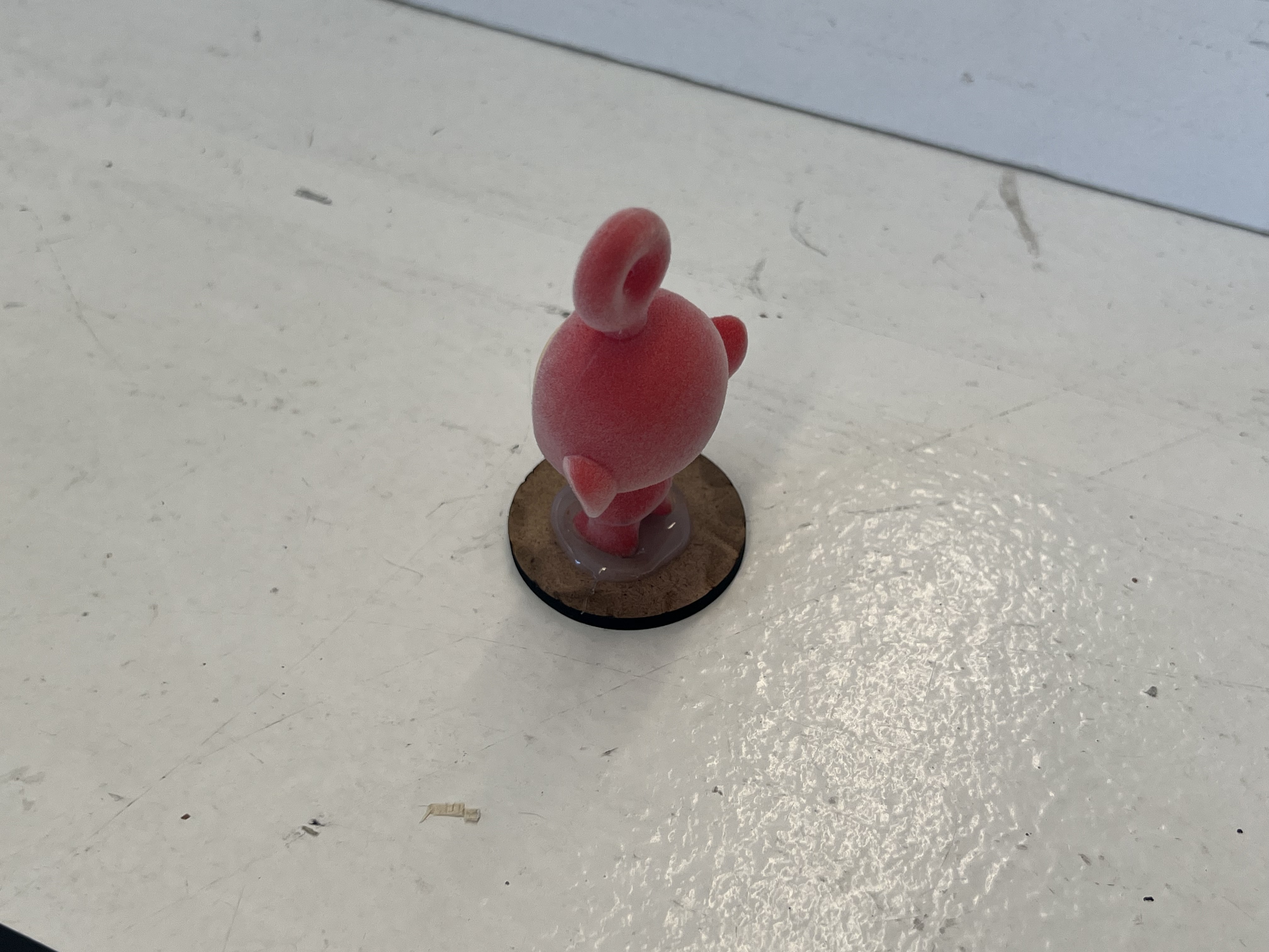teletubby: (533, 208, 748, 557)
